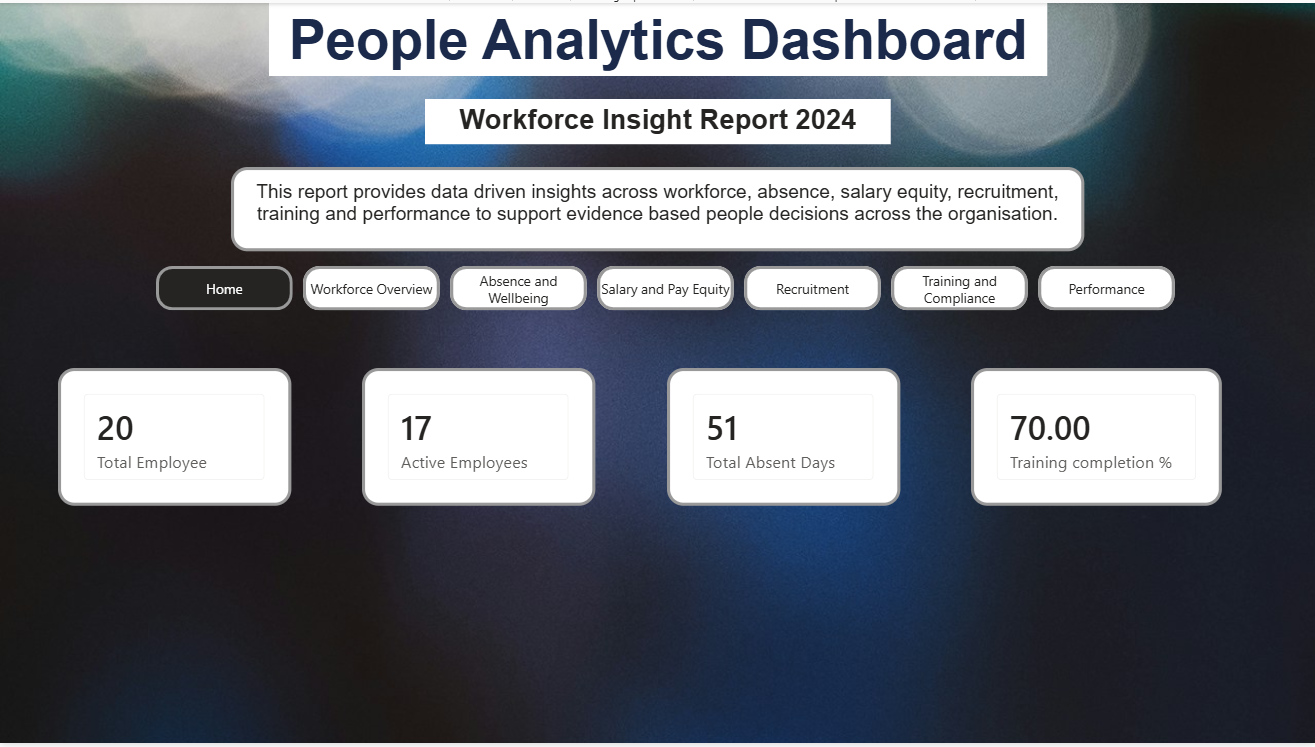

The dashboard page shown, as its layout file describes it:
{"tool":"powerbi","page":{"name":"Home","canvas":[1280,720],"ordinal":0},"visuals":[{"type":"textbox","box":[261.6,0,756.7,71],"z":0},{"type":"textbox","box":[413.4,93.4,453.3,43.8],"z":1000},{"type":"textbox","box":[237.3,159.5,805.3,64.2],"z":2000},{"type":"pageNavigator","box":[152.2,255.8,975.6,43.8],"z":3000},{"type":"cardVisual","fields":{"Data":["CountNonNull(Employees.EmployeeID)"]},"box":[56.4,355.5,226.6,190.6],"z":4000},{"type":"cardVisual","fields":{"Data":["CountNonNull(Employees.EmployeeID)"]},"box":[352.4,355.5,226.6,190.6],"z":5000},{"type":"cardVisual","fields":{"Data":["Sum(Absence.DaysAbsent)"]},"box":[648.4,355.5,226.6,190.6],"z":6000},{"type":"cardVisual","fields":{"Data":["Training.Training completion %"]},"box":[944.4,355,244.1,191.6],"z":7000}]}

Visuals, with their boxes in screenshot pixels (x1, y1, x2, y2), scaled from the page's 1280x720 canvas onto the 1315x747 screenshot:
textbox: (left=269, top=0, right=1046, bottom=74)
textbox: (left=425, top=97, right=890, bottom=142)
textbox: (left=244, top=165, right=1071, bottom=232)
pageNavigator: (left=156, top=265, right=1159, bottom=311)
cardVisual - CountNonNull(Employees.EmployeeID): (left=58, top=369, right=291, bottom=567)
cardVisual - CountNonNull(Employees.EmployeeID): (left=362, top=369, right=595, bottom=567)
cardVisual - Sum(Absence.DaysAbsent): (left=666, top=369, right=899, bottom=567)
cardVisual - Training.Training completion %: (left=970, top=368, right=1221, bottom=567)
